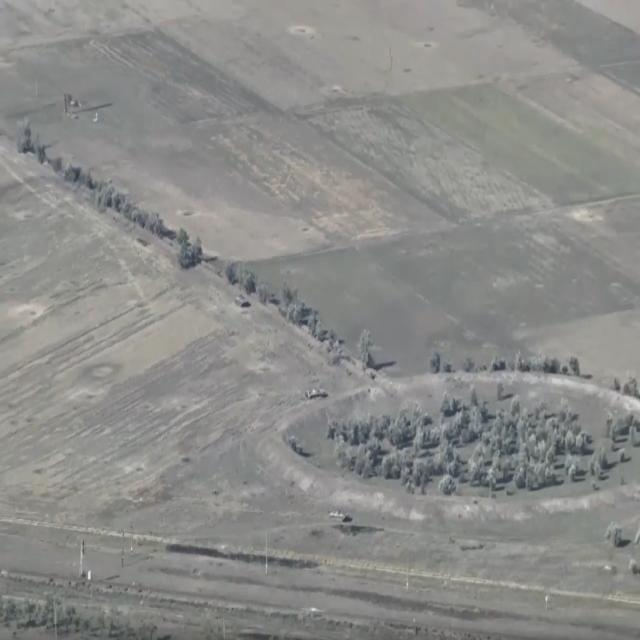AIFV: (307, 385, 330, 403), (327, 508, 350, 524), (234, 293, 251, 311)
